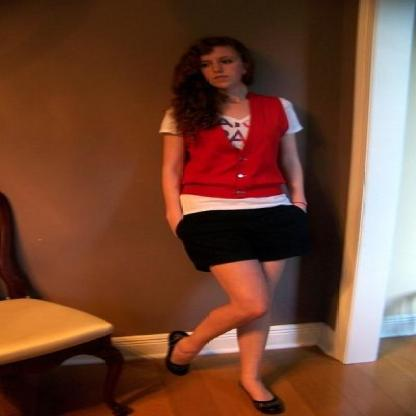jacket: (177, 97, 288, 198)
shirt: (159, 98, 306, 214)
shoe: (149, 341, 284, 415)
skirt: (177, 205, 305, 271)
